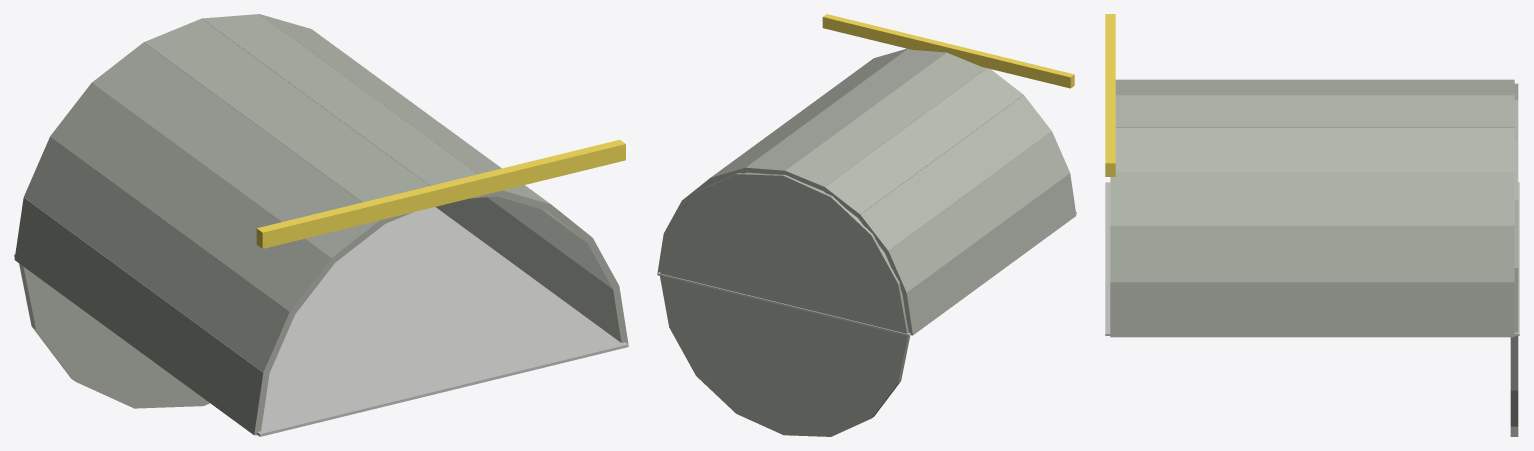
Rendered from hangar.glb.
3 renders of one model, left to right at view 1: azimuth 30°, elevation 25°; view 2: azimuth 150°, elevation 25°; view 3: azimuth 270°, elevation 25°, orthographic. The views are drawn at different scales.
Parts seen in each view (by area): view 1: hangar; view 2: hangar; view 3: hangar.
Boxes of the visible parts, box(x1,y1,x2,y2) form: hangar: box(14, 14, 628, 436); hangar: box(657, 14, 1076, 436); hangar: box(1105, 14, 1519, 436).
Bounding box in the file's own units: 14.43 × 14.5 × 16.4.
